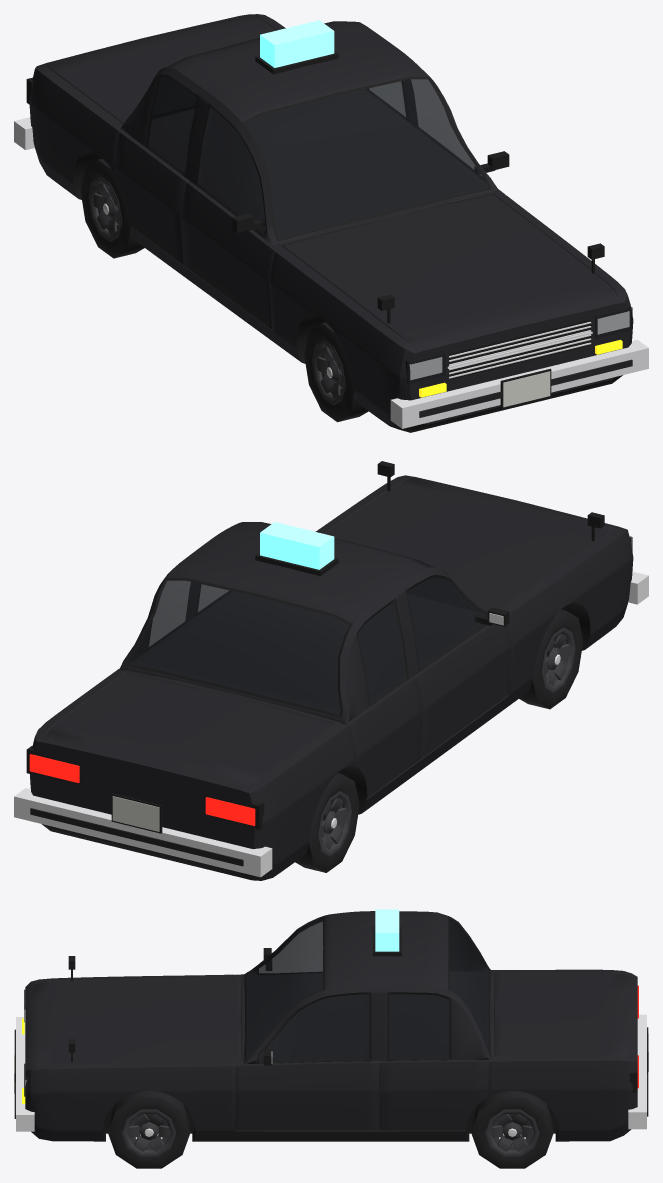
File: taxi_lod2.glb
3 renders of one model, top to bottom at view 1: azimuth 30°, elevation 25°; view 2: azimuth 150°, elevation 25°; view 3: azimuth 270°, elevation 25°, orthographic. The views are drawn at different scales.
Visible parts, largest first — view 1: body, wheel_FL, wheel_RL; view 2: body, wheel_RL, wheel_FL; view 3: body, wheel_FR, wheel_RR.
Boxes of the visible parts, bbox=[...] form: body: bbox=[14, 14, 648, 432]; wheel_FL: bbox=[304, 322, 368, 422]; wheel_RL: bbox=[80, 158, 144, 258]; body: bbox=[14, 461, 648, 880]; wheel_RL: bbox=[295, 773, 359, 872]; wheel_FL: bbox=[519, 609, 583, 709]; body: bbox=[14, 909, 648, 1141]; wheel_FR: bbox=[108, 1091, 190, 1168]; wheel_RR: bbox=[471, 1091, 553, 1168].
Size of the model in its own units: 1.92 by 1.67 by 4.77.
